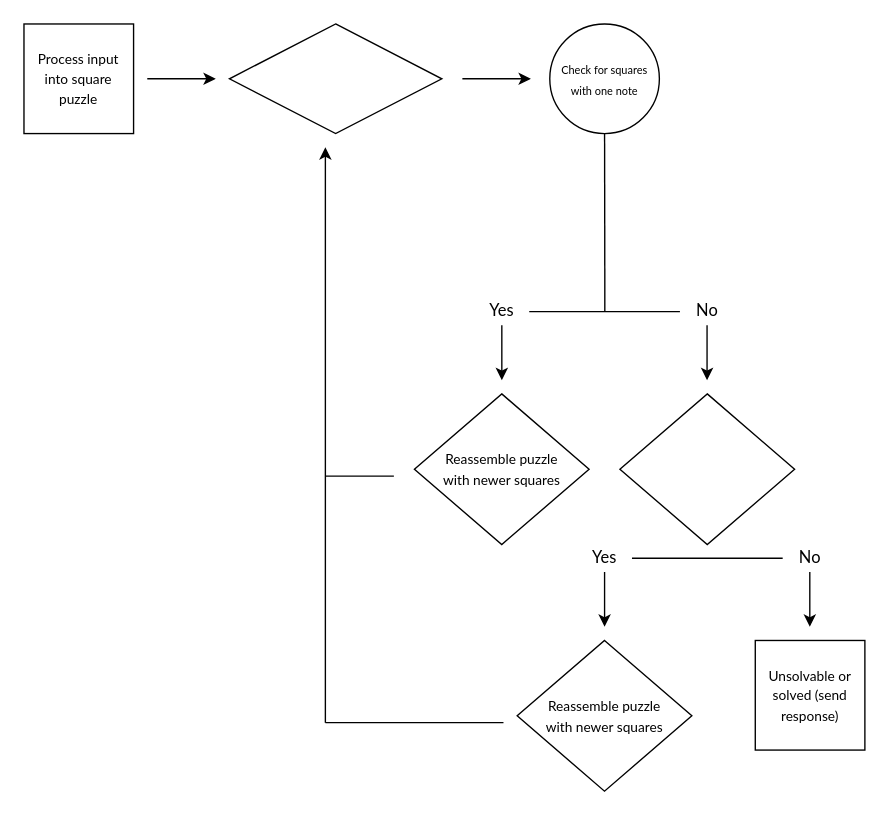
Image size: 889x815. Some labels were removed from this diagram. The centre of each missing label's shape, as x and y in pixels:
"Aggregate Notes" goes at (x=335, y=78).
"Check if there are numbers that appear once within a section" goes at (x=707, y=469).
